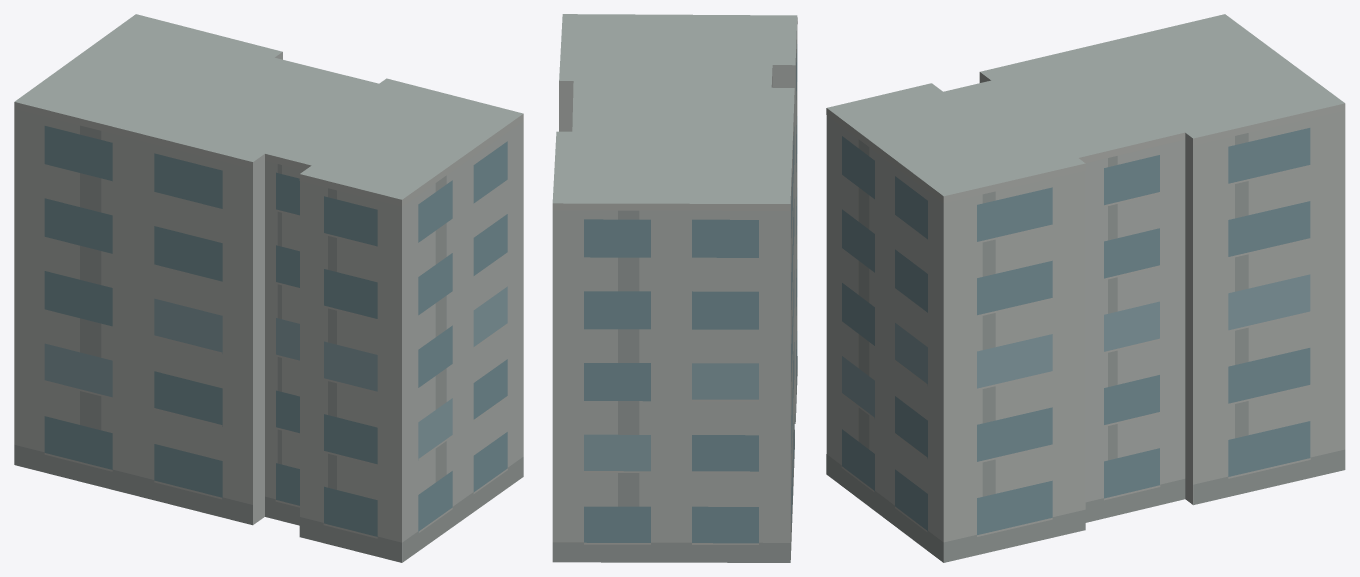
The model's file is survey-upis-32882598.glb.
3 renders of one model, left to right at view 1: azimuth 30°, elevation 25°; view 2: azimuth 150°, elevation 25°; view 3: azimuth 270°, elevation 25°, orthographic. The views are drawn at different scales.
Parts seen in each view (by area): view 1: survey-upis-32882598.tmp; view 2: survey-upis-32882598.tmp; view 3: survey-upis-32882598.tmp.
Part boxes in pixels (box(x1,y1,x2,y2)): survey-upis-32882598.tmp: box(14, 14, 523, 562); survey-upis-32882598.tmp: box(552, 14, 797, 562); survey-upis-32882598.tmp: box(826, 14, 1345, 562).
Size of the model in its own units: 13.45 by 12.6 by 16.17.
